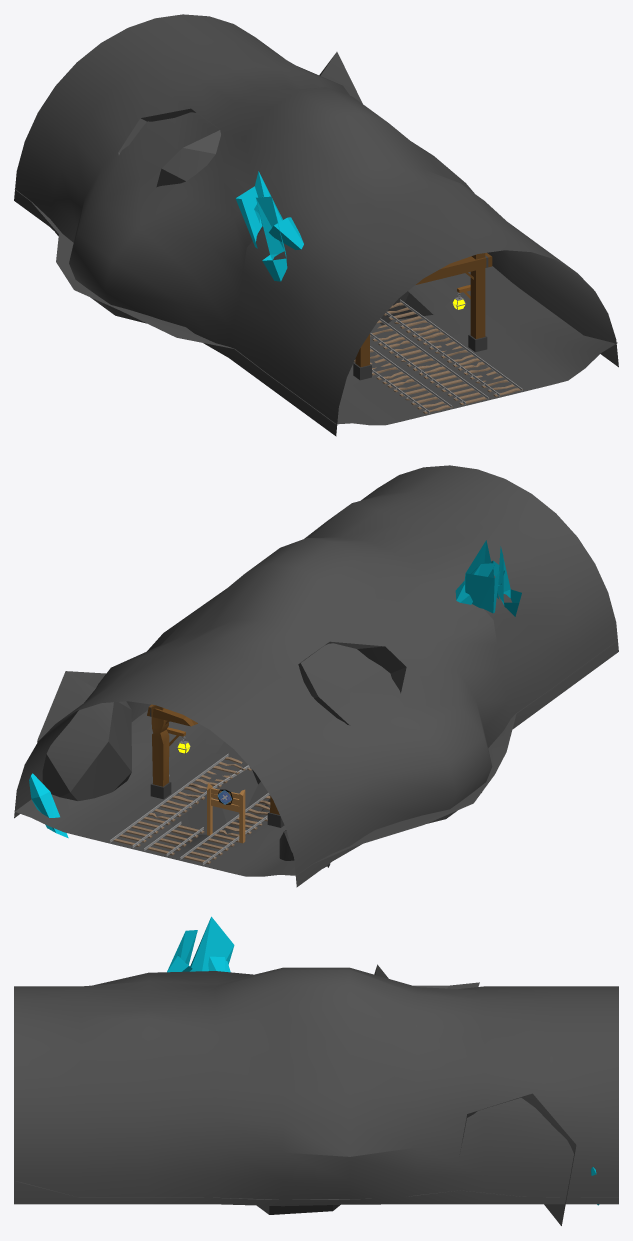
File: Modulo Obstaculo 6.fbx
3 renders of one model, top to bottom at view 1: azimuth 30°, elevation 25°; view 2: azimuth 150°, elevation 25°; view 3: azimuth 270°, elevation 25°, orthographic. The views are drawn at different scales.
Parts seen in each view (by area): view 1: Plane.006; view 2: Plane.006; view 3: Plane.006.
Boxes of the visible parts, x1=… form: Plane.006: x1=14, y1=14, x2=618, y2=436; Plane.006: x1=14, y1=465, x2=618, y2=887; Plane.006: x1=14, y1=916, x2=618, y2=1225.
Size of the model in its own units: 3024 by 1976 by 4761.
